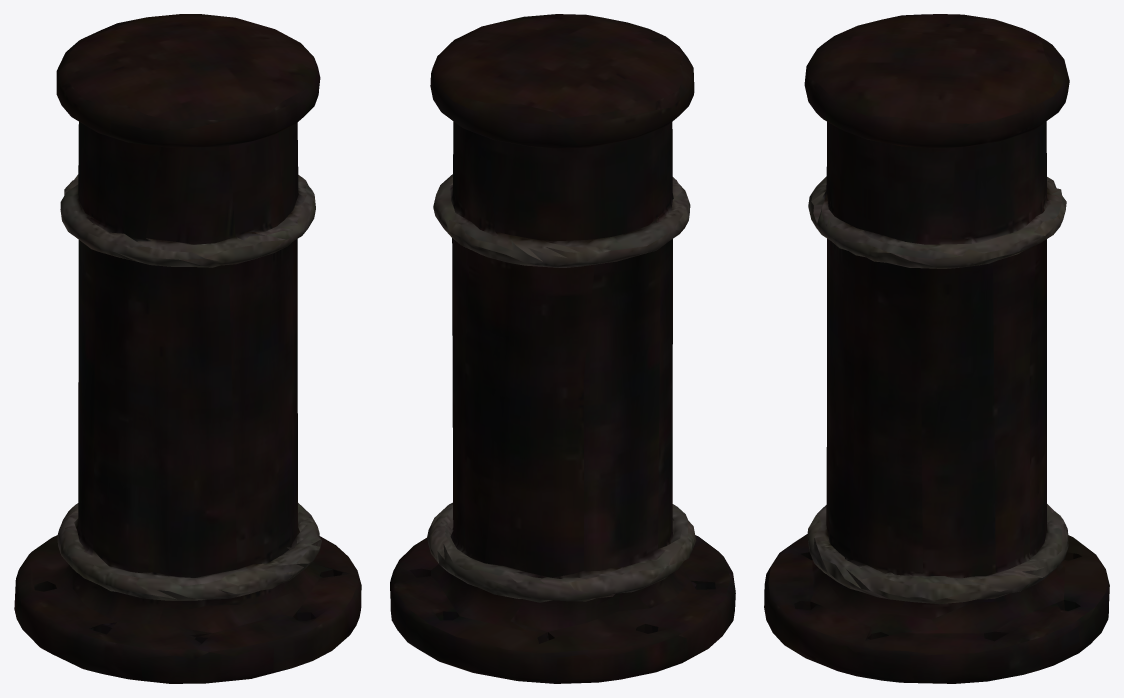
Rendered from bollard.glb.
The picture shows the model from 3 angles, left to right: view 1: azimuth 30°, elevation 25°; view 2: azimuth 150°, elevation 25°; view 3: azimuth 270°, elevation 25°; orthographic projection.
Visible parts, largest first — view 1: bollard; view 2: bollard; view 3: bollard.
Part boxes in pixels (x1,y1,x2,y2): bollard: (14, 14, 361, 683); bollard: (390, 14, 735, 683); bollard: (764, 14, 1109, 683).
Size of the model in its own units: 0.3312 by 0.6 by 0.3312.
Materials: 1 (1 with a texture image).
